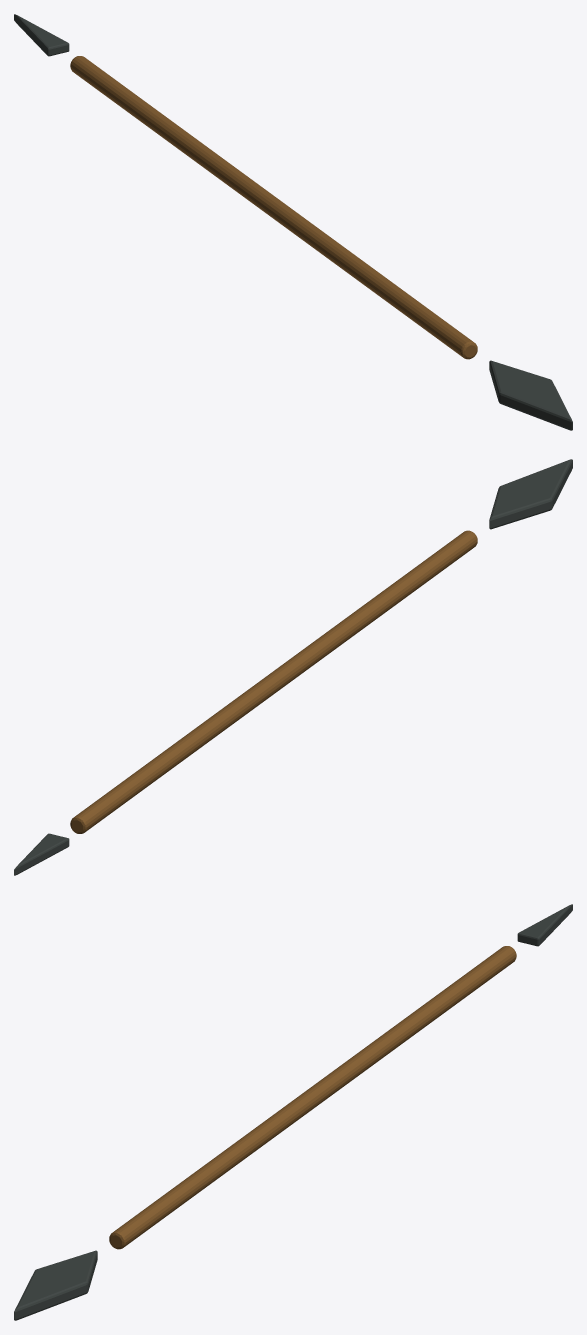
Rendered from akontion_javelin_LOD1.glb.
3 views of the same model, one above another, from view 1: azimuth 30°, elevation 25°; view 2: azimuth 150°, elevation 25°; view 3: azimuth 330°, elevation 25° (orthographic).
Visible parts, largest first — view 1: LOD1_Shaft, LOD1_Head, LOD1_Butt; view 2: LOD1_Shaft, LOD1_Head, LOD1_Butt; view 3: LOD1_Shaft, LOD1_Head, LOD1_Butt.
Part boxes in pixels (bbox=[...]): LOD1_Shaft: bbox=[70, 56, 477, 359]; LOD1_Head: bbox=[489, 360, 572, 430]; LOD1_Butt: bbox=[14, 14, 69, 56]; LOD1_Shaft: bbox=[70, 530, 477, 833]; LOD1_Head: bbox=[489, 459, 572, 529]; LOD1_Butt: bbox=[14, 833, 69, 875]; LOD1_Shaft: bbox=[109, 946, 516, 1249]; LOD1_Head: bbox=[14, 1250, 97, 1320]; LOD1_Butt: bbox=[517, 904, 572, 946].
Bounding box in the file's own units: 0.1335 × 0.0415 × 2.44.
